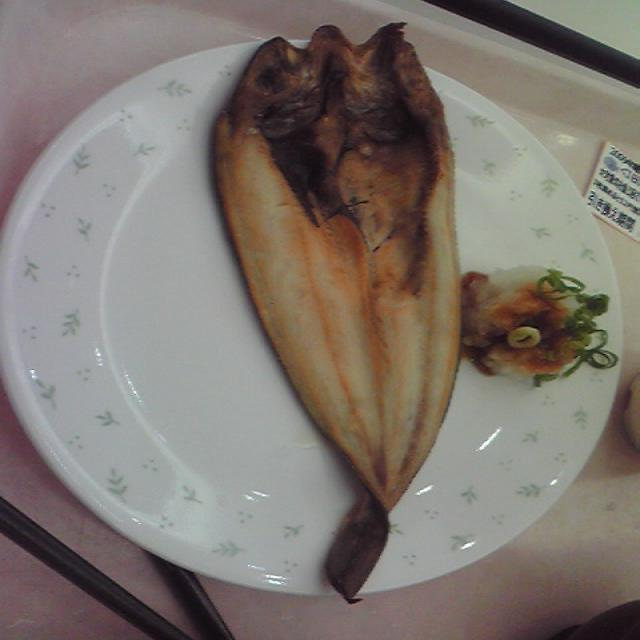熟制海鲜: (232, 14, 475, 612)
